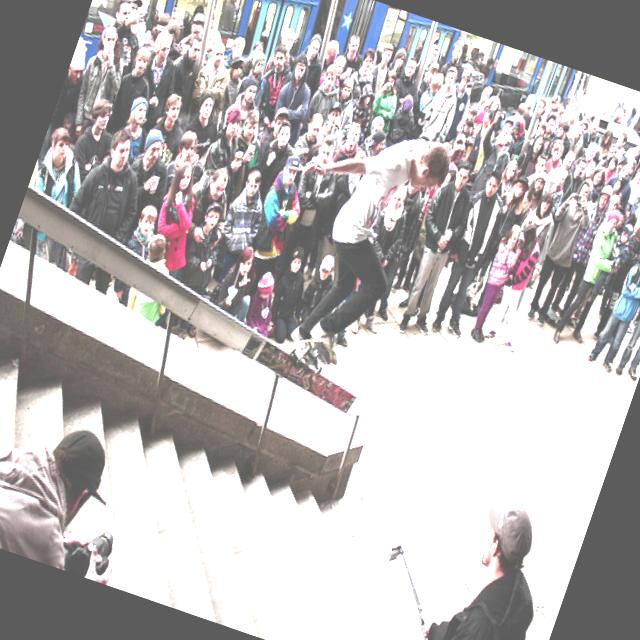Vehicle: (72, 0, 590, 218), (587, 96, 640, 187)
